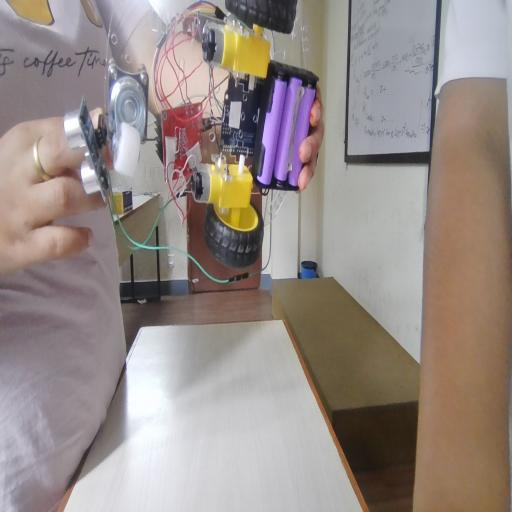car: (110, 16, 285, 251)
